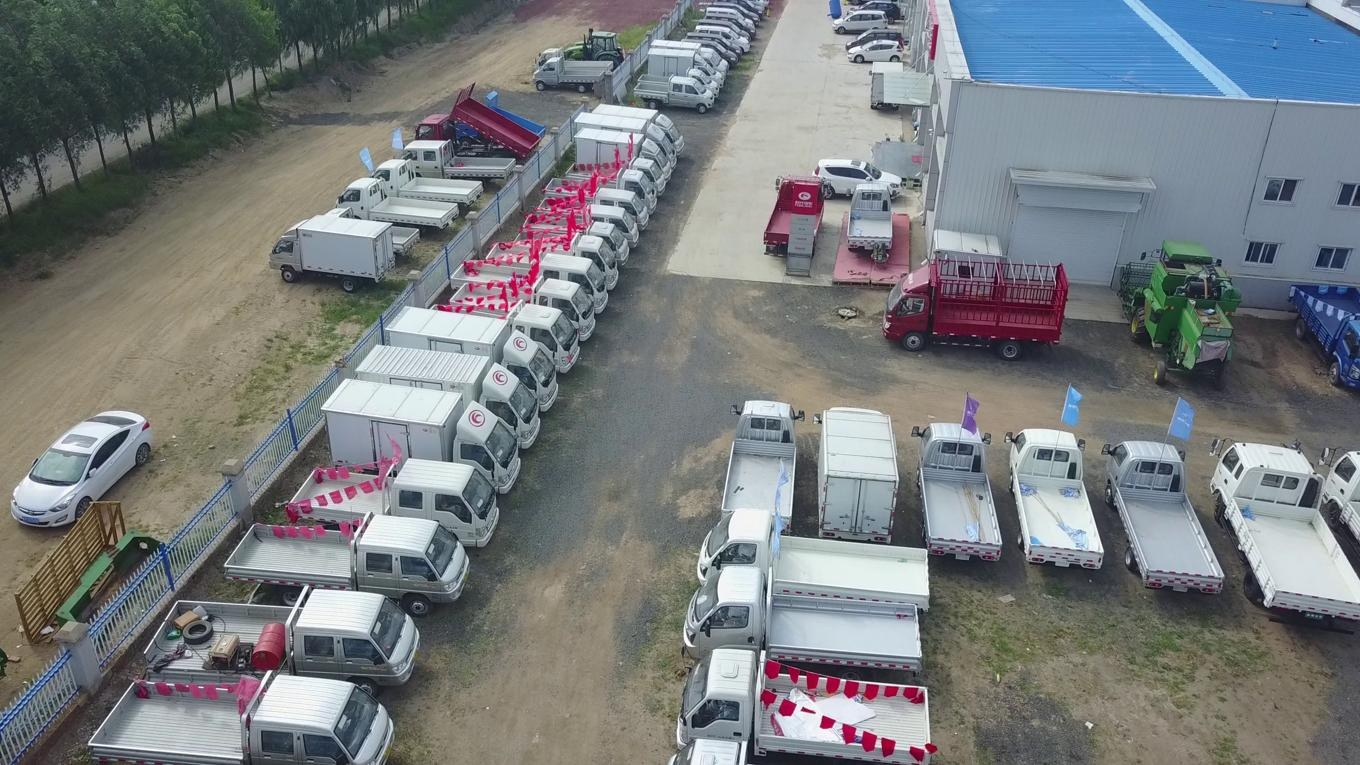car: (7, 410, 151, 525), (811, 158, 905, 203), (848, 39, 904, 65), (845, 0, 901, 26), (831, 11, 886, 33), (712, 0, 763, 19)
others: (1116, 238, 1244, 389), (560, 26, 625, 70)
truck: (144, 584, 420, 697), (675, 647, 935, 765), (1209, 437, 1359, 638), (83, 669, 397, 764), (684, 565, 925, 682), (222, 511, 470, 616), (697, 507, 930, 613), (322, 379, 521, 497), (352, 343, 542, 452), (288, 457, 502, 552), (1103, 438, 1224, 600), (881, 256, 1070, 359), (383, 305, 559, 413), (1004, 426, 1105, 570), (908, 421, 1004, 561), (715, 400, 805, 539), (423, 298, 580, 377), (814, 406, 900, 549), (415, 83, 541, 172), (447, 250, 608, 319), (450, 275, 597, 345), (266, 214, 397, 292), (484, 230, 621, 293), (1285, 283, 1359, 386), (330, 178, 459, 237), (438, 88, 545, 150), (363, 158, 483, 213), (572, 110, 679, 170), (304, 206, 420, 260), (570, 126, 672, 187), (393, 139, 515, 189), (543, 164, 660, 214), (509, 221, 631, 268), (764, 171, 825, 260), (522, 203, 642, 248), (535, 187, 652, 233), (592, 103, 685, 160), (558, 155, 667, 196), (648, 37, 730, 83), (847, 183, 898, 255), (643, 48, 724, 90), (535, 46, 615, 87), (633, 73, 715, 113), (531, 56, 605, 95), (638, 68, 722, 100), (867, 57, 902, 113)
van: (679, 36, 739, 69), (687, 30, 742, 63), (698, 13, 757, 43), (693, 24, 751, 53), (694, 17, 751, 46), (703, 1, 760, 25), (706, 6, 755, 32), (847, 29, 905, 50)
